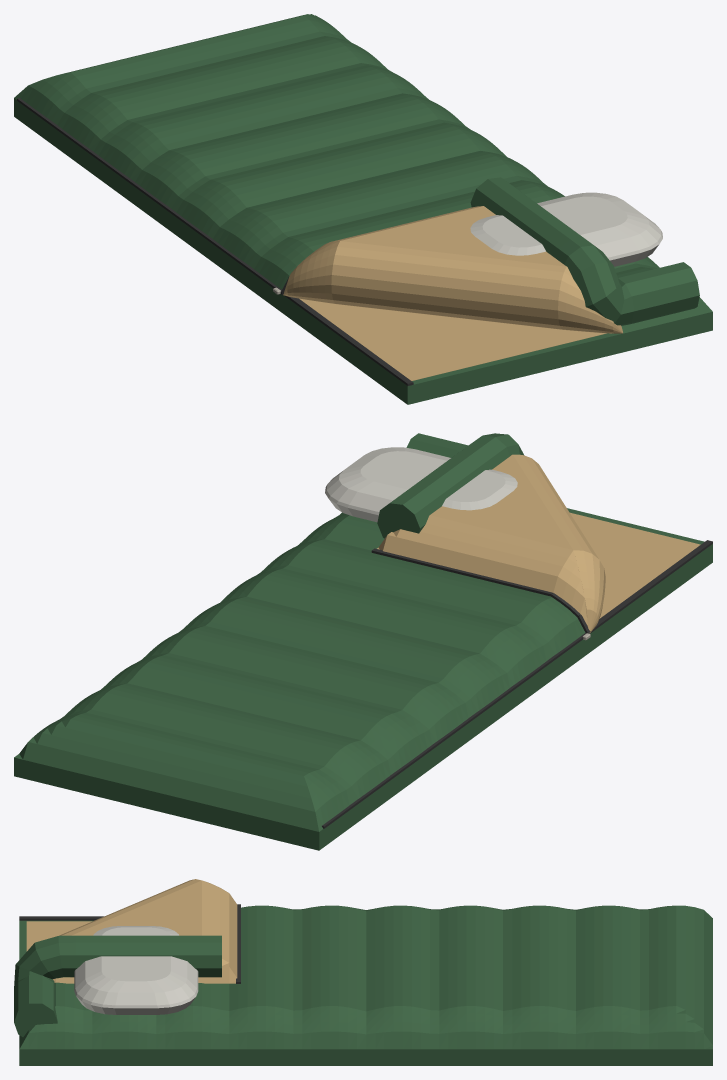
Rendered from sleeping-bag.glb.
The picture shows the model from 3 angles, top to bottom: view 1: azimuth 30°, elevation 25°; view 2: azimuth 150°, elevation 25°; view 3: azimuth 270°, elevation 25°; orthographic projection. The views are drawn at different scales.
Parts seen in each view (by area): view 1: sleepingBag; view 2: sleepingBag; view 3: sleepingBag.
Part boxes in pixels (box(x1,y1,x2,y2)): sleepingBag: box(14, 14, 712, 404); sleepingBag: box(14, 433, 712, 850); sleepingBag: box(14, 879, 712, 1065).
Bounding box in the file's own units: 0.862 × 0.2509 × 1.91.
